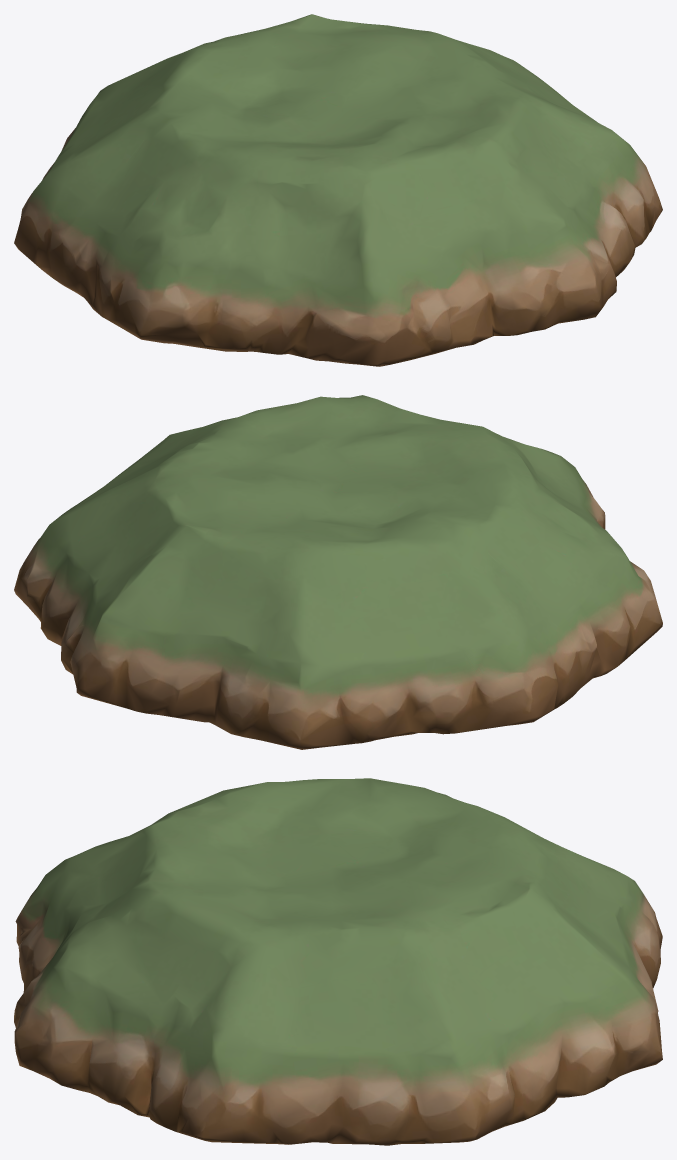
File: hill_low.glb
3 renders of one model, top to bottom at view 1: azimuth 30°, elevation 25°; view 2: azimuth 150°, elevation 25°; view 3: azimuth 270°, elevation 25°, orthographic. The views are drawn at different scales.
Visible parts, largest first — view 1: tripo_node_b5c90699-1beb-4f5d-b253-b42779fcb889; view 2: tripo_node_b5c90699-1beb-4f5d-b253-b42779fcb889; view 3: tripo_node_b5c90699-1beb-4f5d-b253-b42779fcb889.
Boxes of the visible parts, bbox=[...] form: tripo_node_b5c90699-1beb-4f5d-b253-b42779fcb889: bbox=[14, 14, 662, 366]; tripo_node_b5c90699-1beb-4f5d-b253-b42779fcb889: bbox=[14, 395, 662, 749]; tripo_node_b5c90699-1beb-4f5d-b253-b42779fcb889: bbox=[14, 778, 662, 1145].
Bounding box in the file's own units: 1 × 0.2784 × 0.9968.
Materials: 1 (1 with a texture image).
